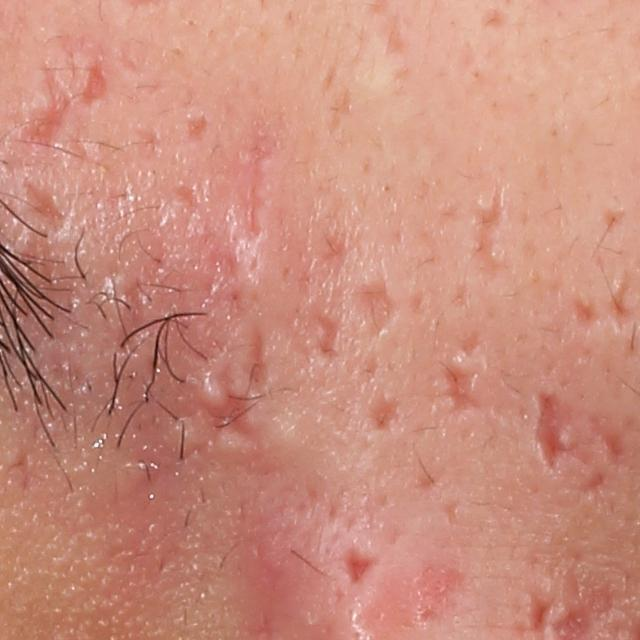atrophic_scar: (175, 366, 266, 443), (14, 66, 73, 152), (532, 388, 577, 486), (471, 178, 508, 281), (355, 273, 399, 337), (20, 181, 70, 236), (363, 390, 413, 440), (243, 131, 266, 234), (441, 362, 484, 416), (306, 302, 347, 355), (79, 54, 110, 105), (610, 270, 635, 331), (323, 87, 352, 135), (7, 448, 32, 497), (570, 292, 602, 330), (346, 546, 378, 582), (381, 13, 406, 59), (249, 327, 265, 398), (183, 111, 213, 143), (171, 185, 203, 214), (601, 203, 628, 235), (320, 57, 339, 96), (461, 326, 485, 356), (415, 466, 442, 491), (443, 501, 460, 531)
hypertrophic_scar: (264, 398, 347, 480), (229, 233, 288, 305), (210, 423, 262, 459), (199, 361, 233, 408), (167, 415, 208, 451), (560, 424, 582, 448), (475, 192, 497, 211), (489, 244, 508, 264)
